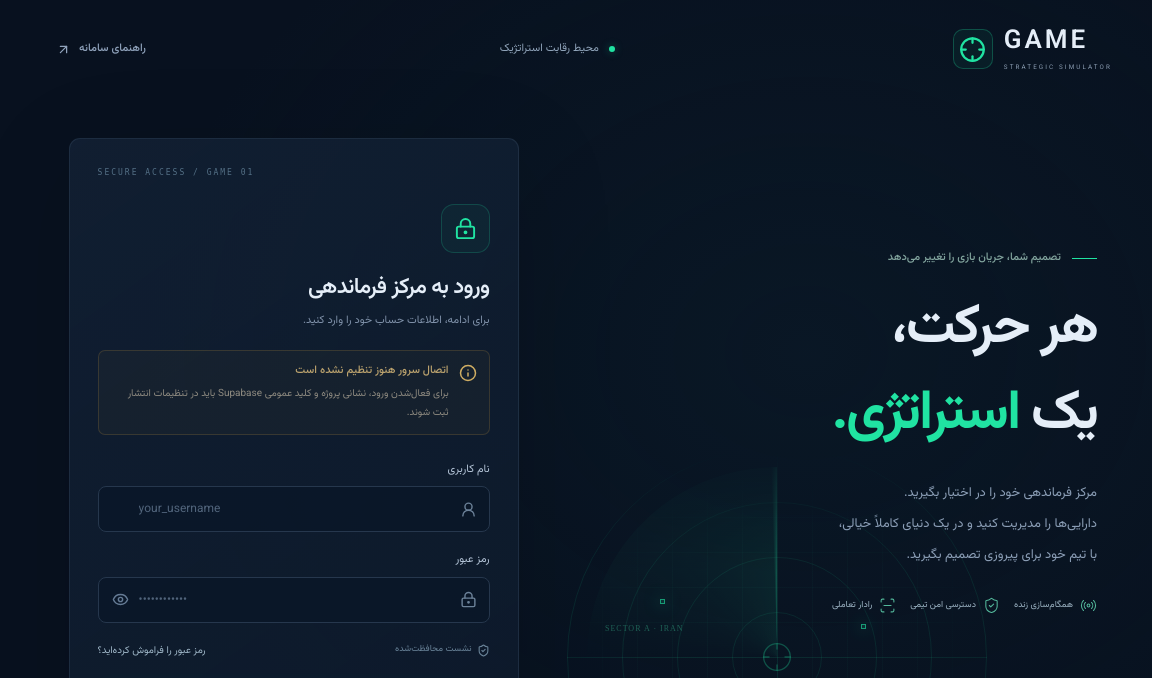
Test case: honest unauthenticated entry › shows username recovery and an explanation of private accounts
Click the button "رمز عبور را فراموش کرده‌اید؟". click: (152, 650)
box: [98,642,205,658]
(page scrolled)
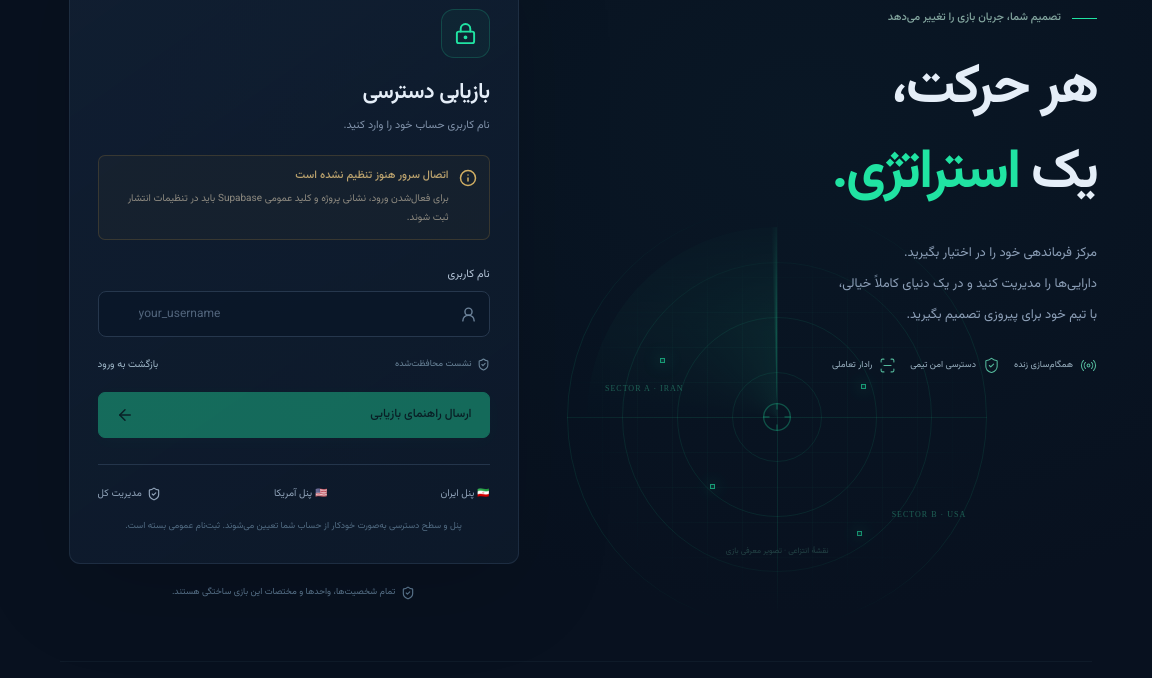
Expected: the text "ثبت‌نام عمومی بسته است" is shown, [125,519,462,533]
Result: the heading "بازیابی دسترسی" is shown at [362,75,490,110]
Result: the label labelled "رمز عبور" is gone
